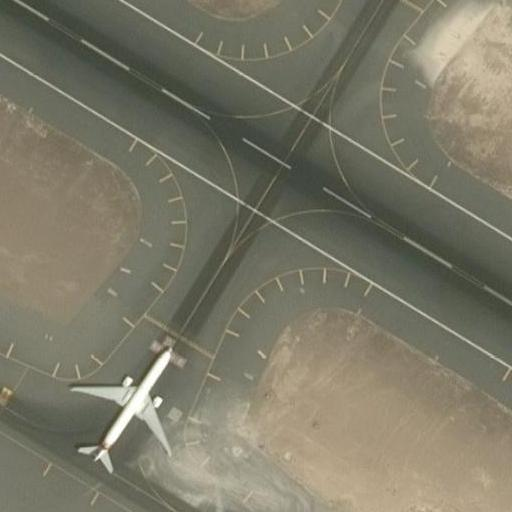Aircraft: (63, 341, 196, 473)
